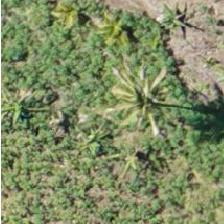coconut_tree: (93, 48, 183, 138)
